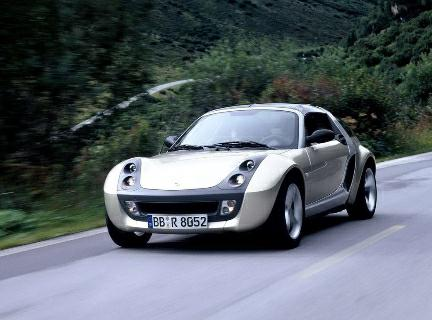smart-roadster: (98, 94, 384, 255)
